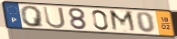0: (135, 11, 157, 34), (92, 9, 110, 31)
8: (67, 7, 88, 31)
M: (108, 9, 138, 33)
Q: (20, 5, 46, 28)
U: (42, 6, 67, 30)
